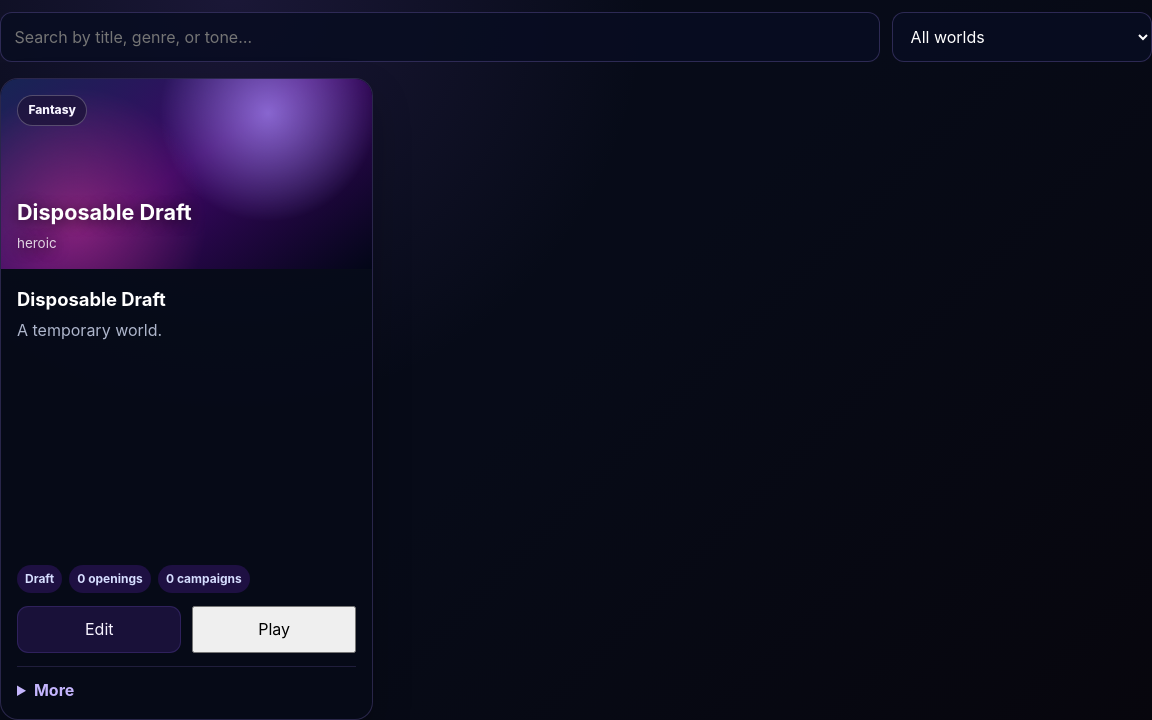
Test case: world library deletion option › opens the protected deletion flow from a world card
(page scrolled)
Expected: the element "Disposable Draft" is shown, [0,78,373,719]
Click the heading "More": (54, 690) [34,680,74,700]
(page scrolled)
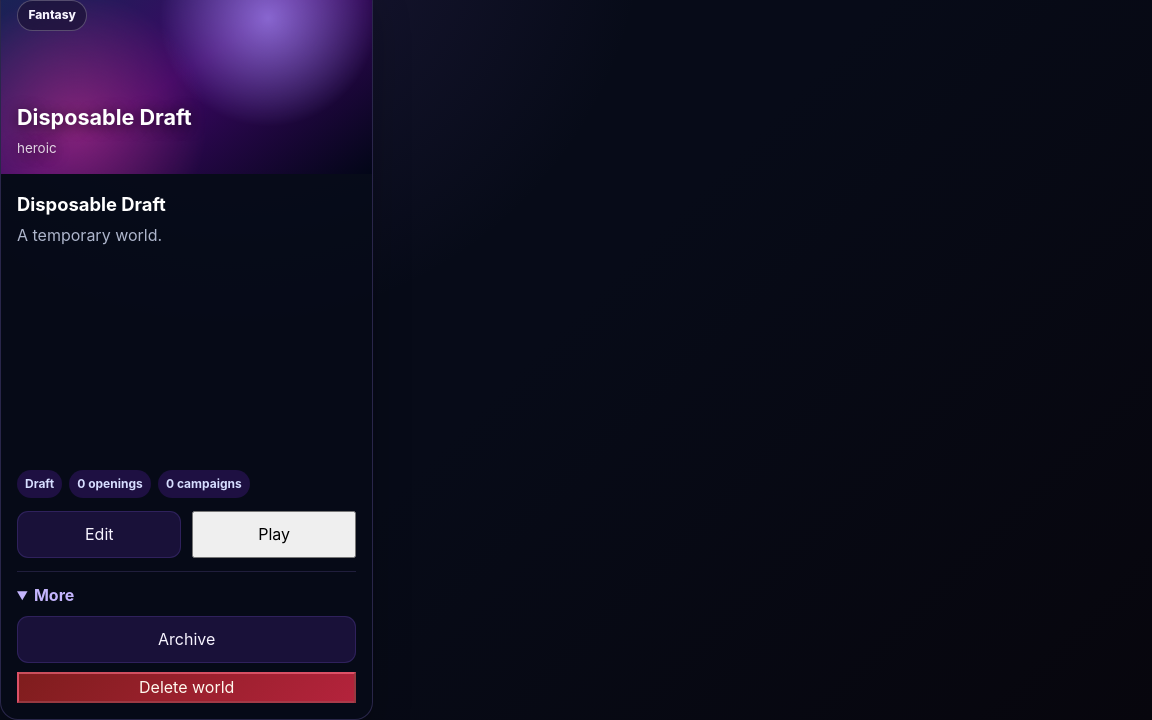
Click the button "Delete world": (187, 687) [17,672,356,703]
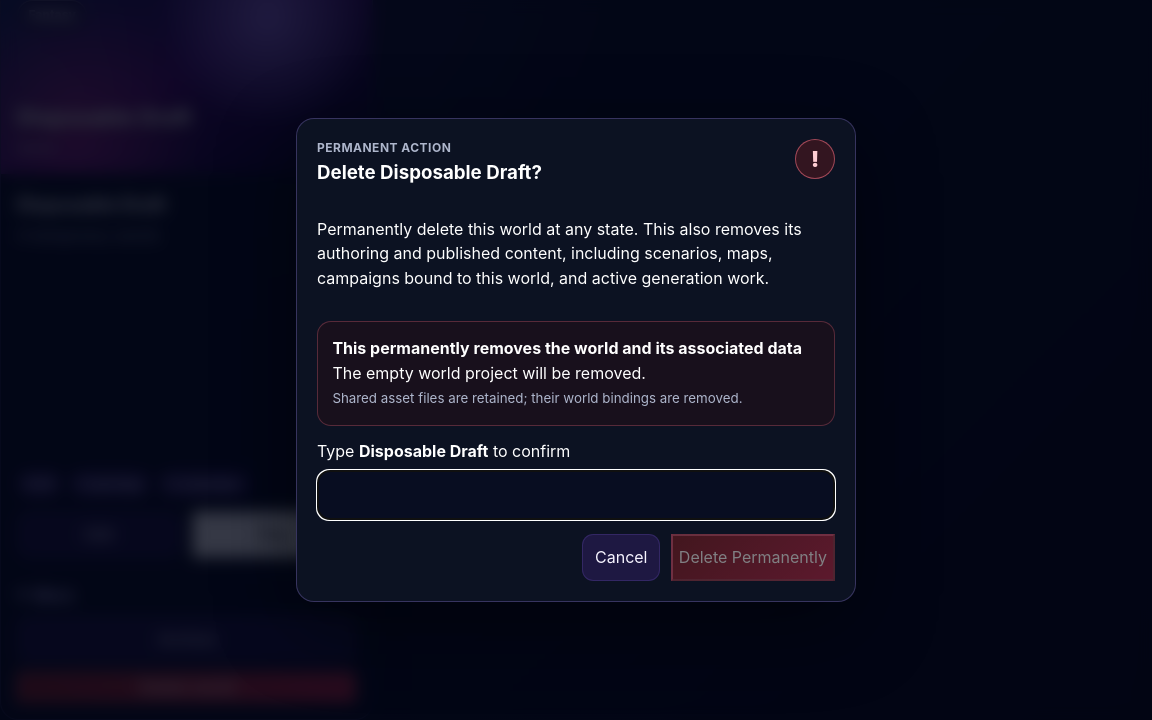
Now the text "Permanently delete this world at any state" is shown, box [317,218,802,288]
